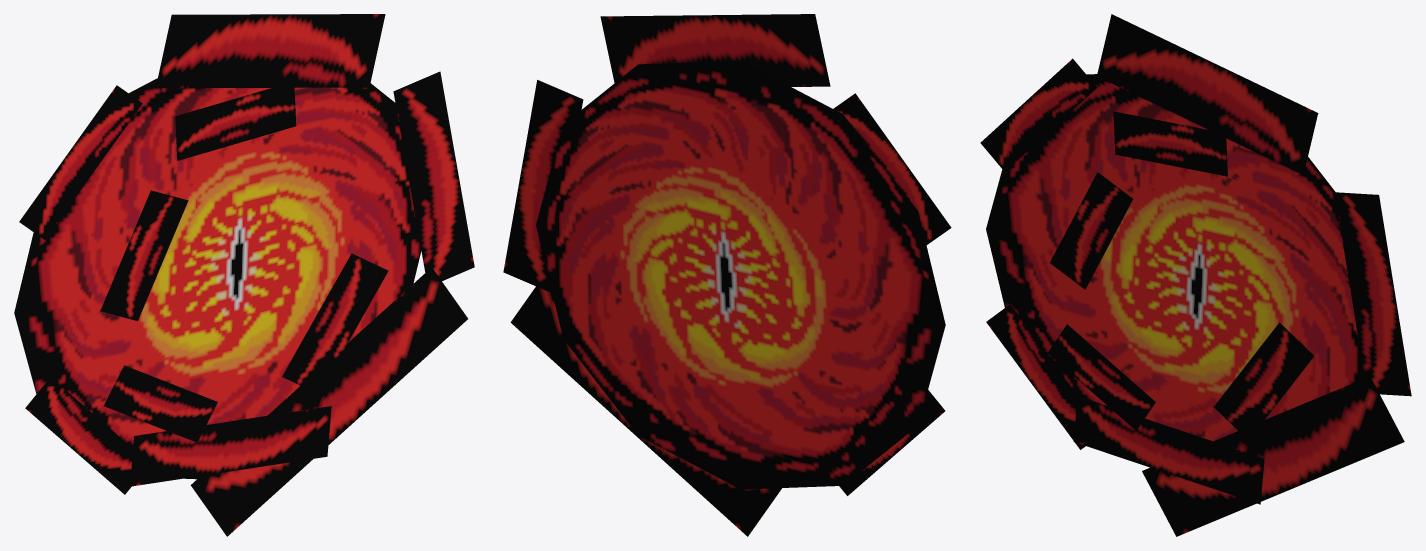
The model's file is portal.fbx.
3 renders of one model, left to right at view 1: azimuth 30°, elevation 25°; view 2: azimuth 150°, elevation 25°; view 3: azimuth 330°, elevation 25°, orthographic. The views are drawn at different scales.
Visible parts, largest first — view 1: Plane, Plane.008, Plane.005; view 2: Plane, Plane.008; view 3: Plane, Plane.008, Plane.005.
Part boxes in pixels (x1,y1,x2,y2): Plane: (14,78,421,479); Plane.008: (19,14,474,536); Plane.005: (100,81,388,442); Plane: (536,60,945,489); Plane.008: (503,14,951,536); Plane: (986,74,1364,441); Plane.008: (980,14,1411,536); Plane.005: (1048,111,1313,440).
Bounding box in the file's own units: 609 × 693 × 31.64.
